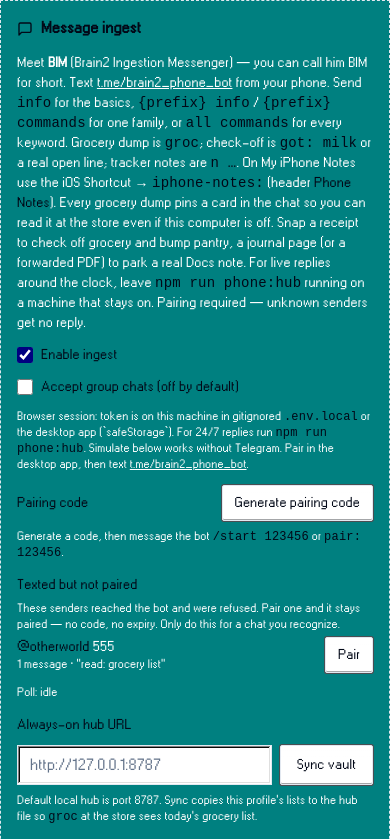
Scenario: MessageIngestPanel › pairs a refused sender from the log without a code
This screenshot has width=390, height=839.
Expected: the text "Texted but not paired" is shown, [17,578,137,591]
Click the button "Pair" at (349, 655), box [325,637,373,673]
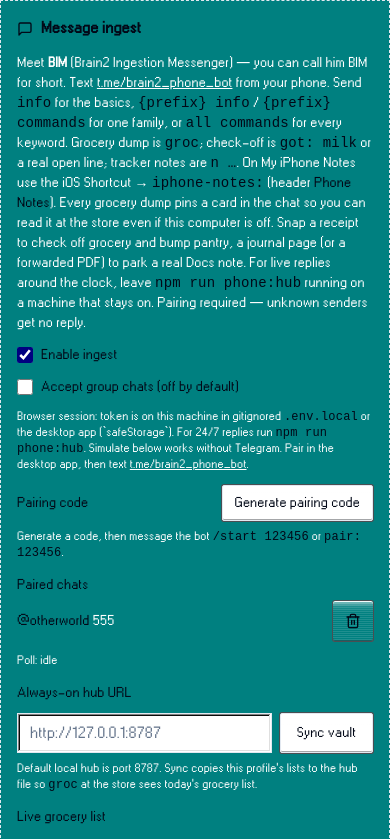
Expected: the text "Texted but not paired" is gone
Expected: the text "Paired chats" is shown, [17,578,88,591]
